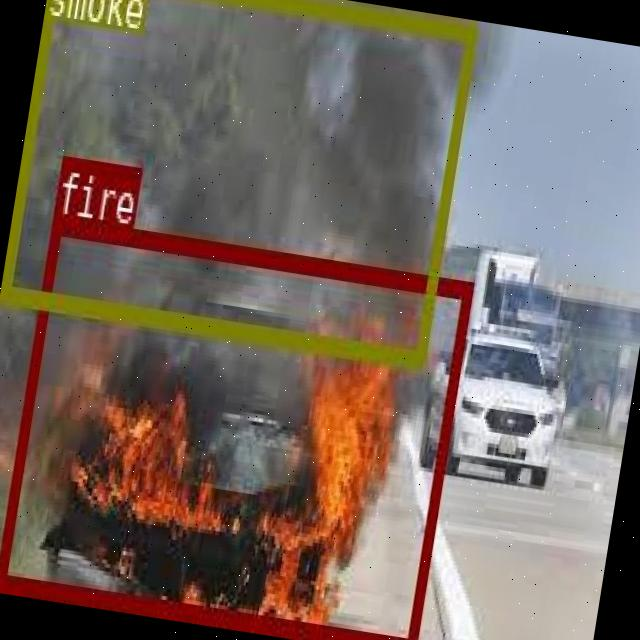fire: (0, 213, 471, 640)
smoke: (0, 0, 477, 364)
